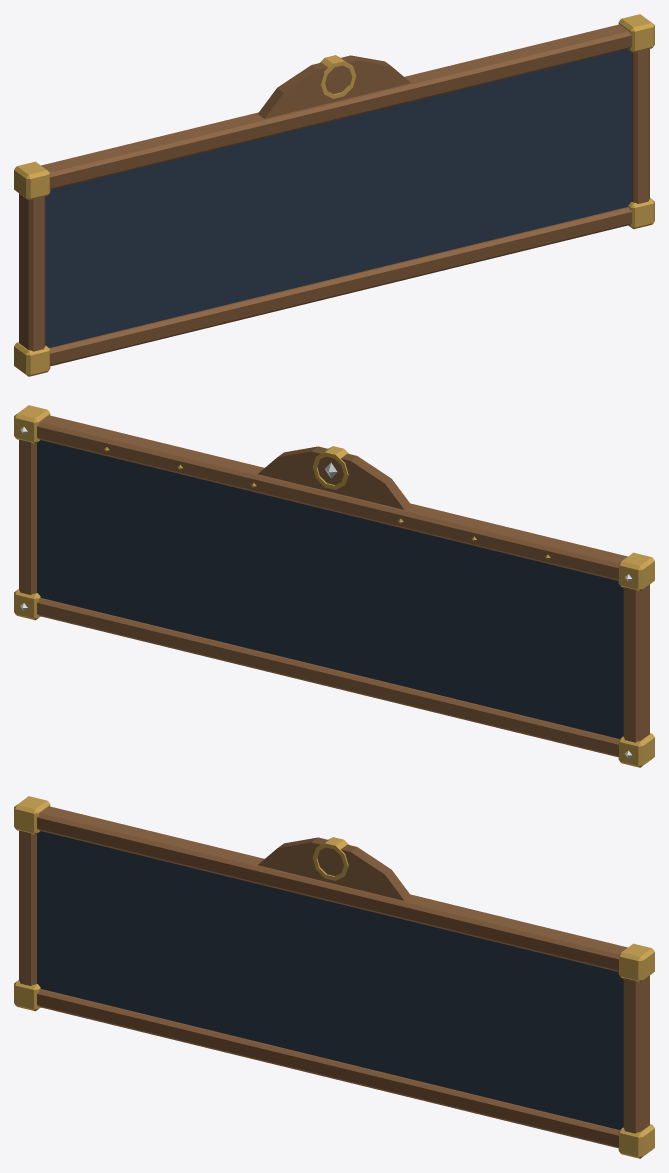
The model's file is Signboard.obj.
3 renders of one model, top to bottom at view 1: azimuth 30°, elevation 25°; view 2: azimuth 150°, elevation 25°; view 3: azimuth 330°, elevation 25°, orthographic.
Size of the model in its own units: 12.84 by 4.62 by 0.61.
